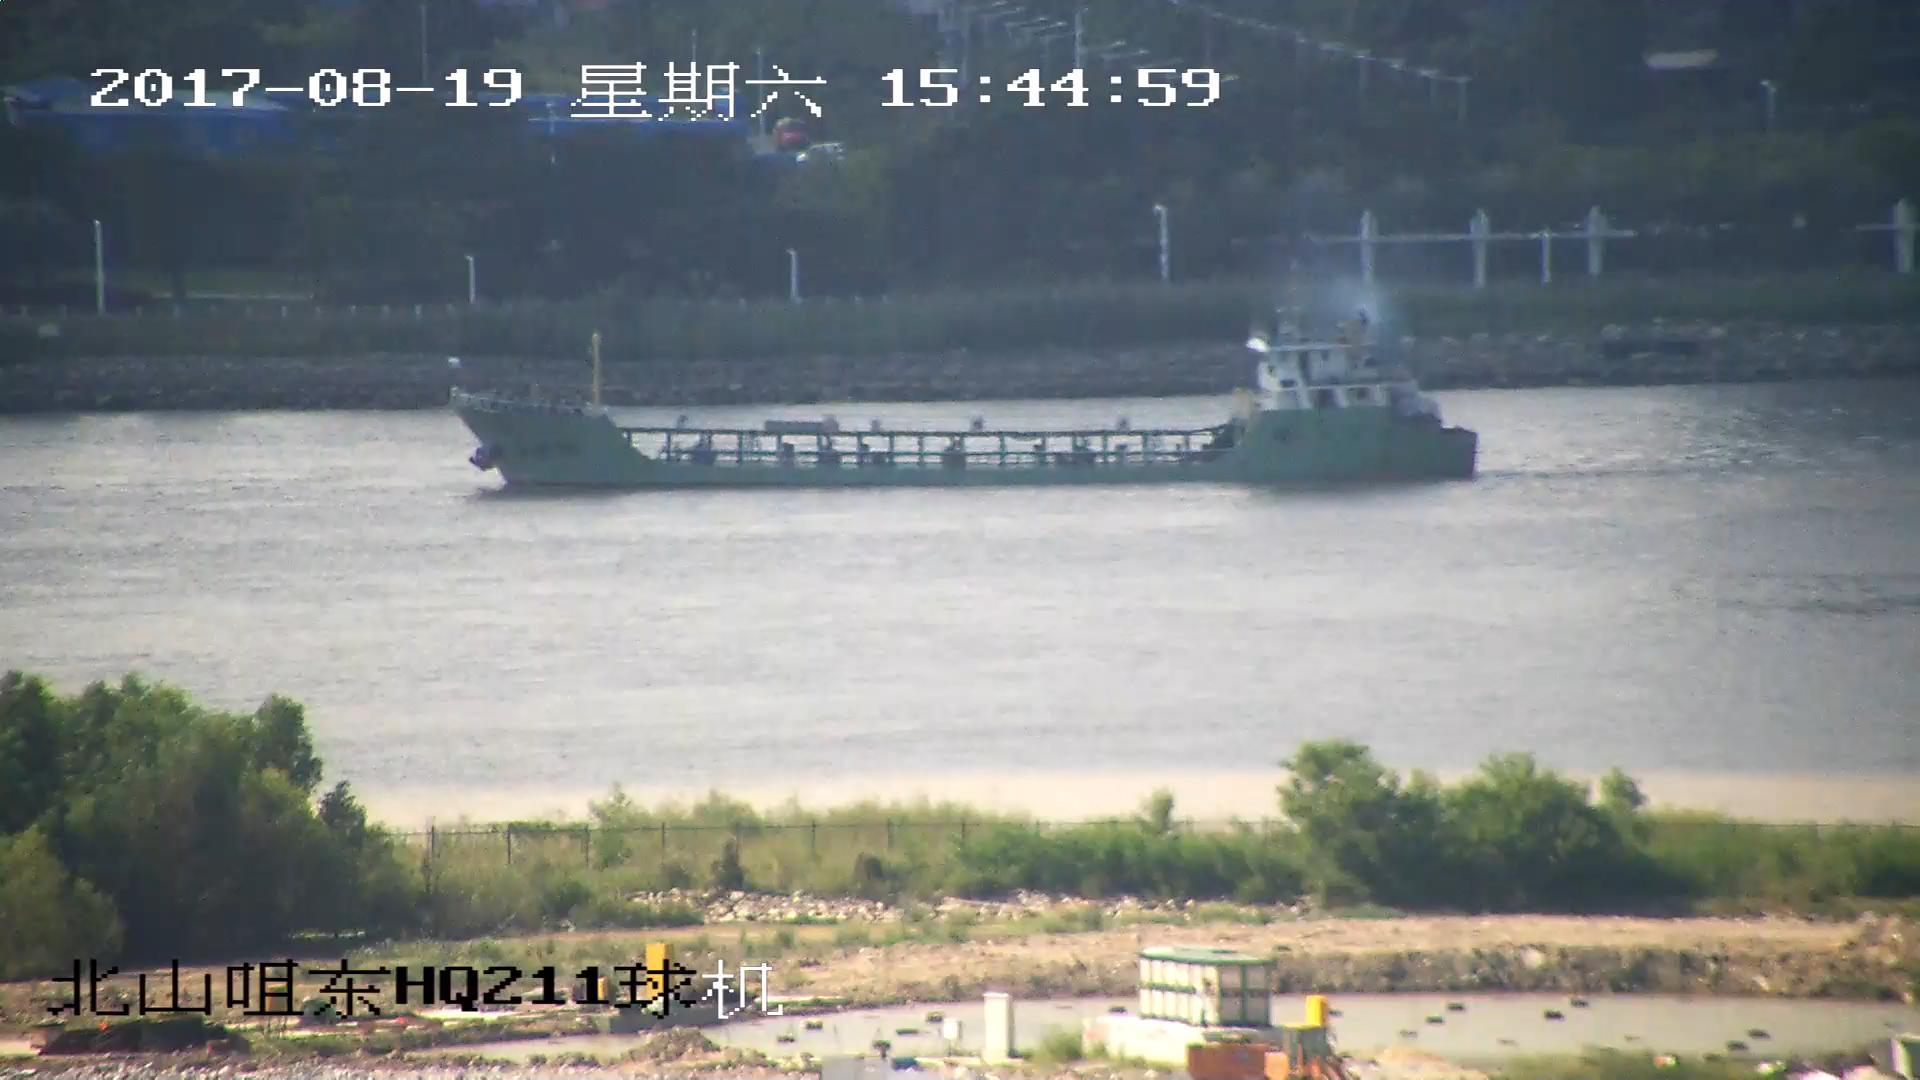Ship: (455, 291, 1480, 489)
